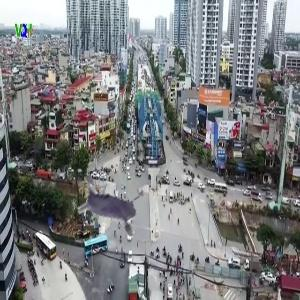drone: (50, 148, 173, 271)
